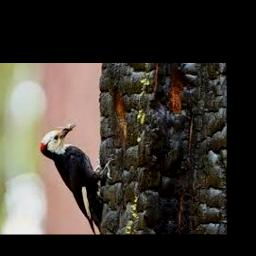Woodpecker: (42, 121, 114, 235)
